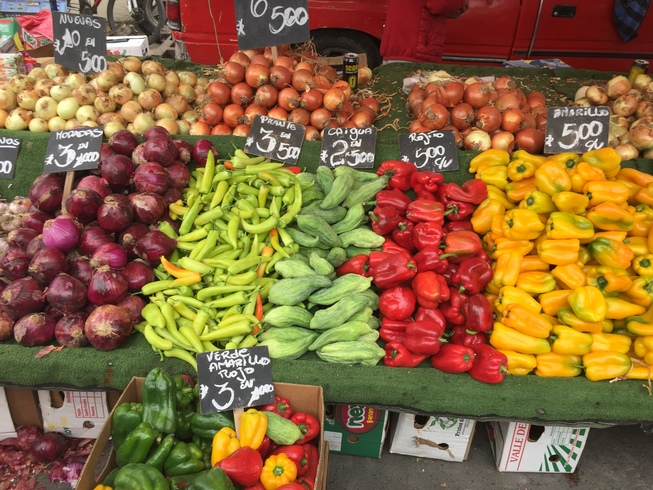precio: (188, 339, 284, 415), (45, 9, 121, 83), (228, 1, 322, 56), (242, 108, 318, 176), (39, 117, 112, 180), (538, 99, 614, 157), (404, 125, 473, 177), (322, 121, 381, 174), (1, 129, 31, 178)
